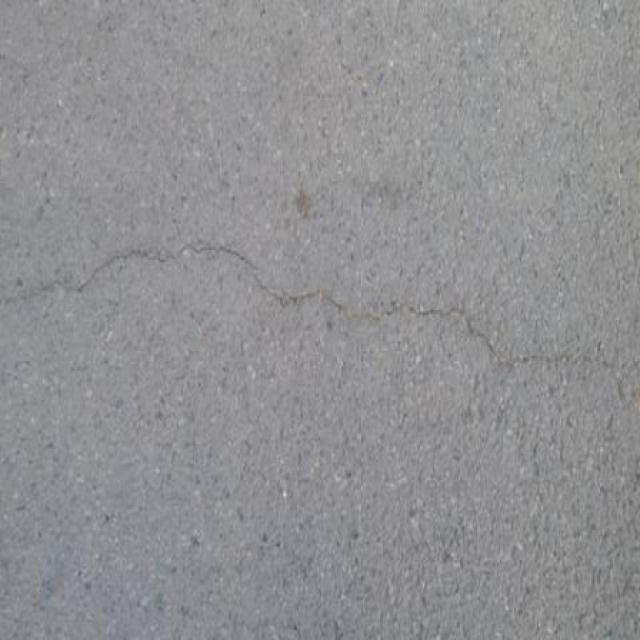Alligator Crack: (0, 237, 628, 411)
